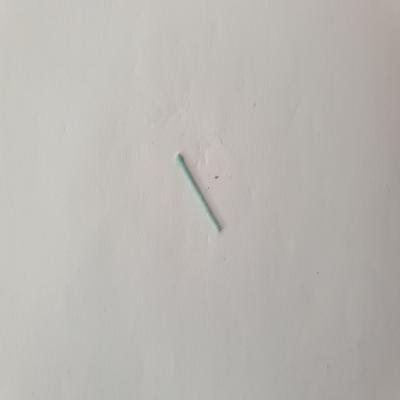thread: (174, 148, 228, 238)
